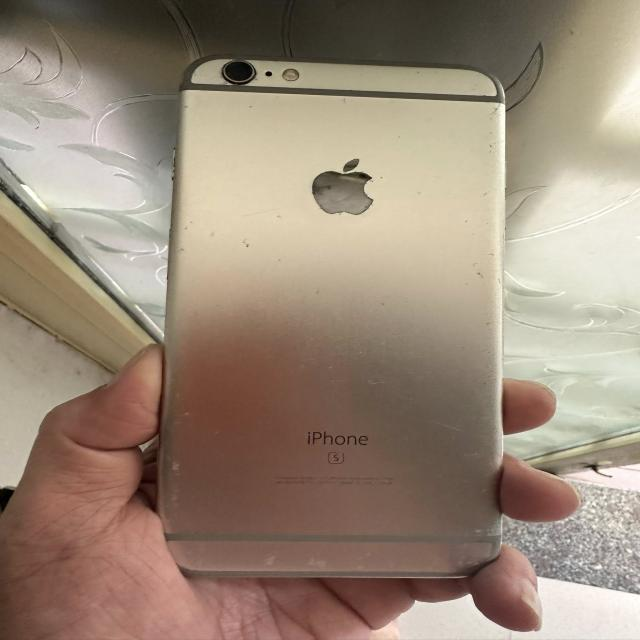gen_6: (163, 38, 524, 589)
